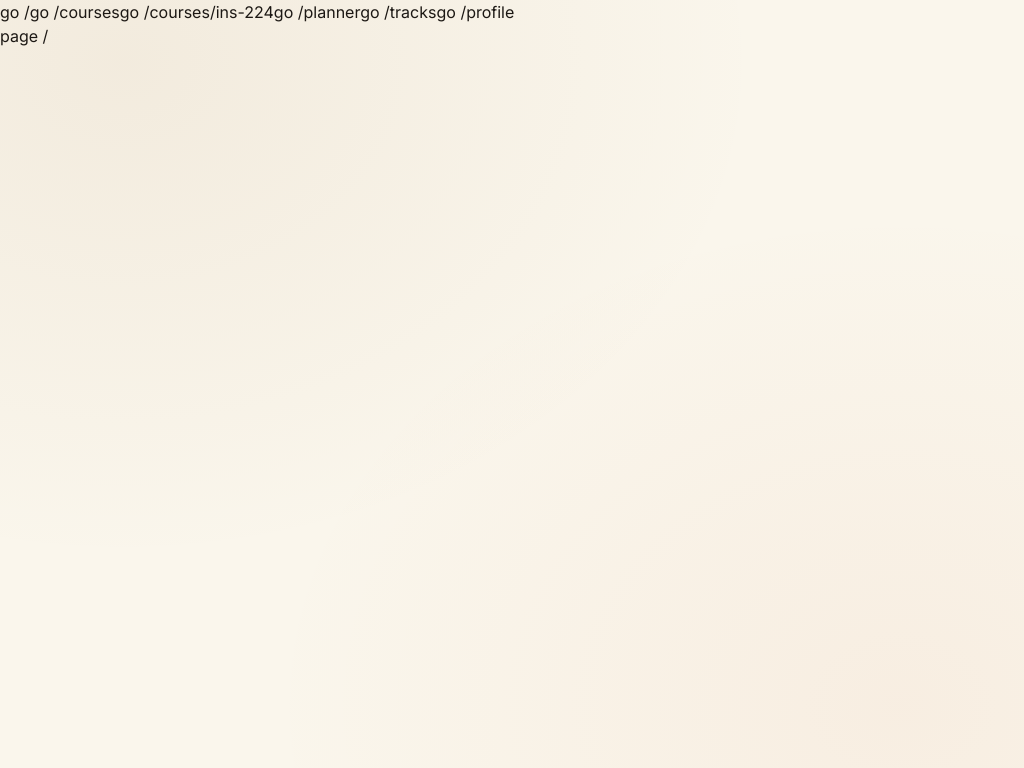
Test: FeedbackPrompt · submitting › disables submit until a rating is picked
Click the link "go /courses" at (42, 12), box x1=30 y1=2 x2=120 y2=22
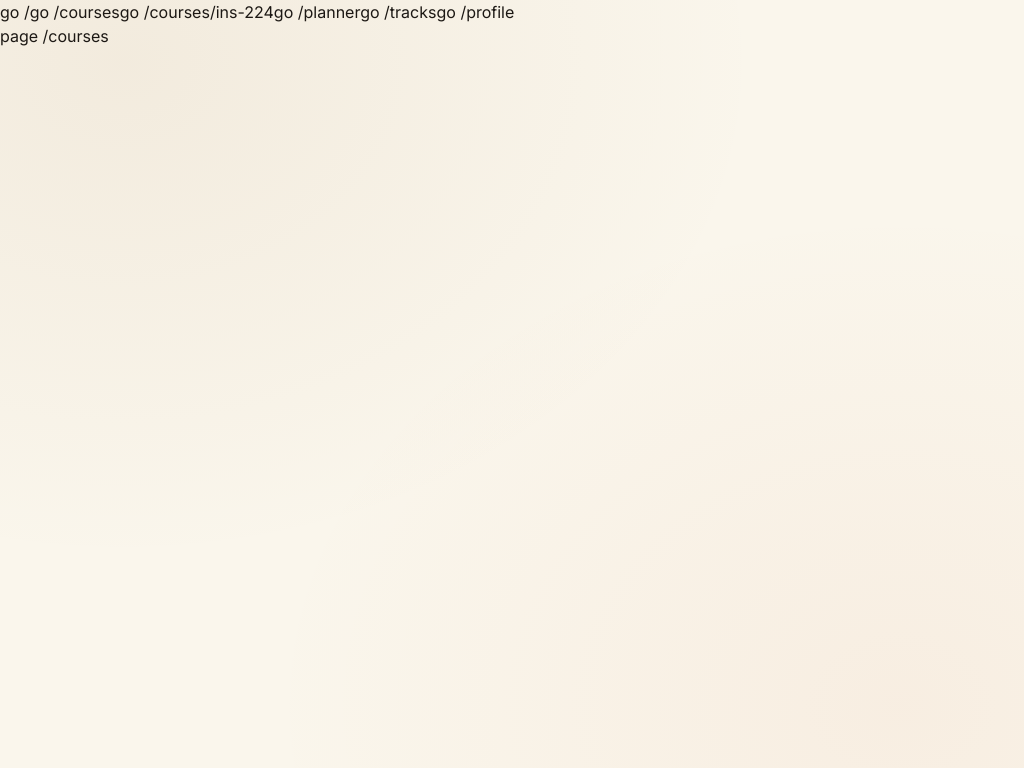
Click the link "go /courses/ins-224" at (132, 12), box x1=120 y1=2 x2=274 y2=22
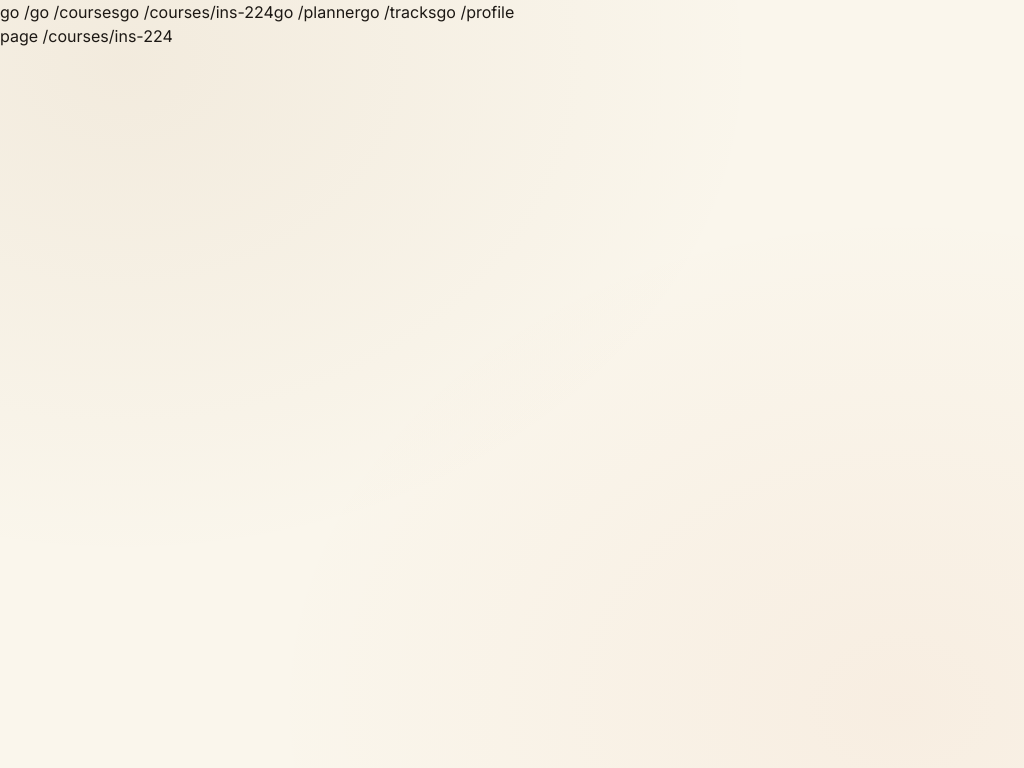
Click the link "go /planner" at (286, 12), box x1=274 y1=2 x2=360 y2=22
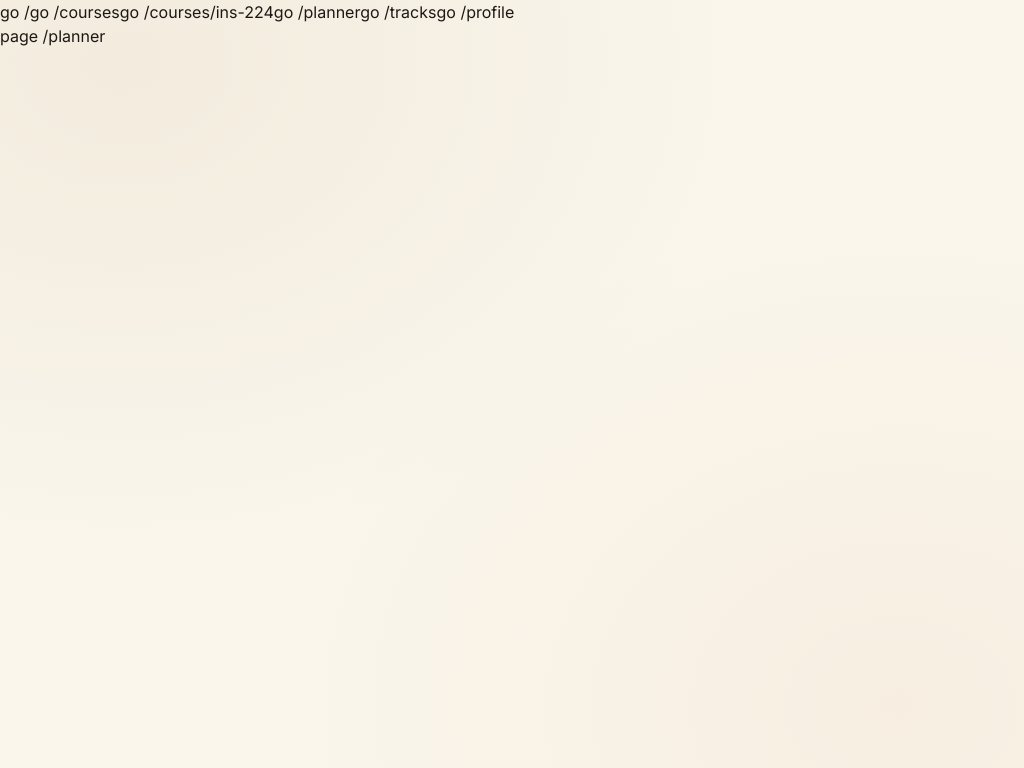
Click the link "go /tracks" at (372, 12), box x1=360 y1=2 x2=436 y2=22
Wait 180000 ms
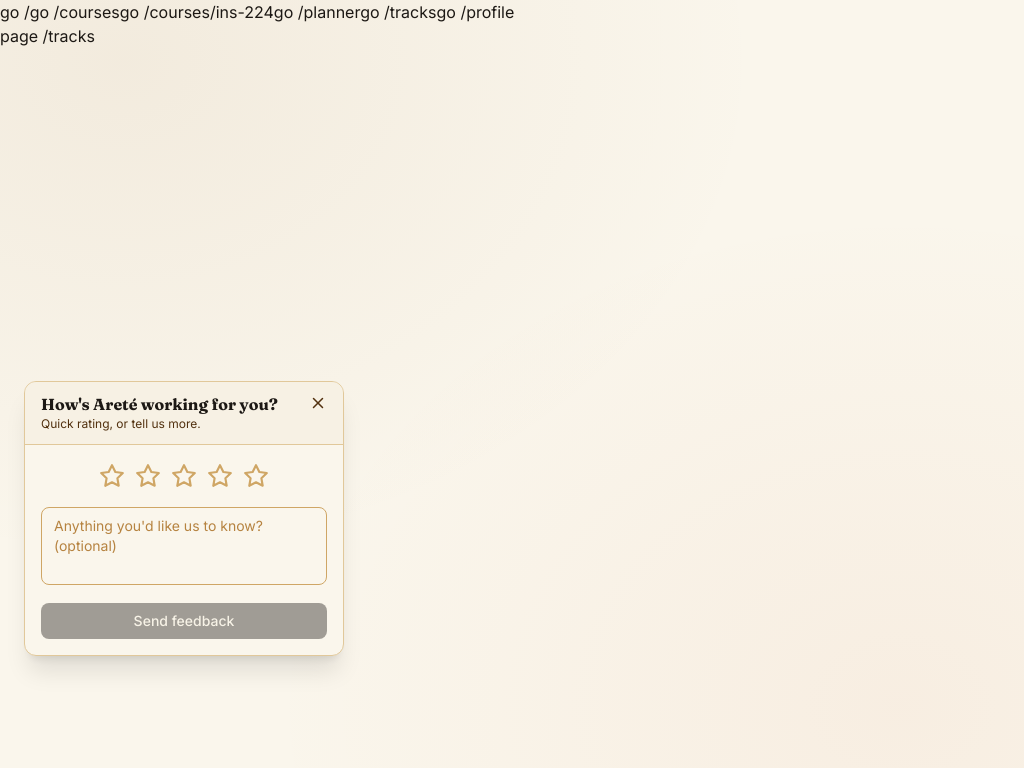
Expected: the button "Send feedback" is disabled, x1=41 y1=603 x2=327 y2=639
Click the radio button named "4 stars" at (220, 476), box x1=205 y1=461 x2=235 y2=491
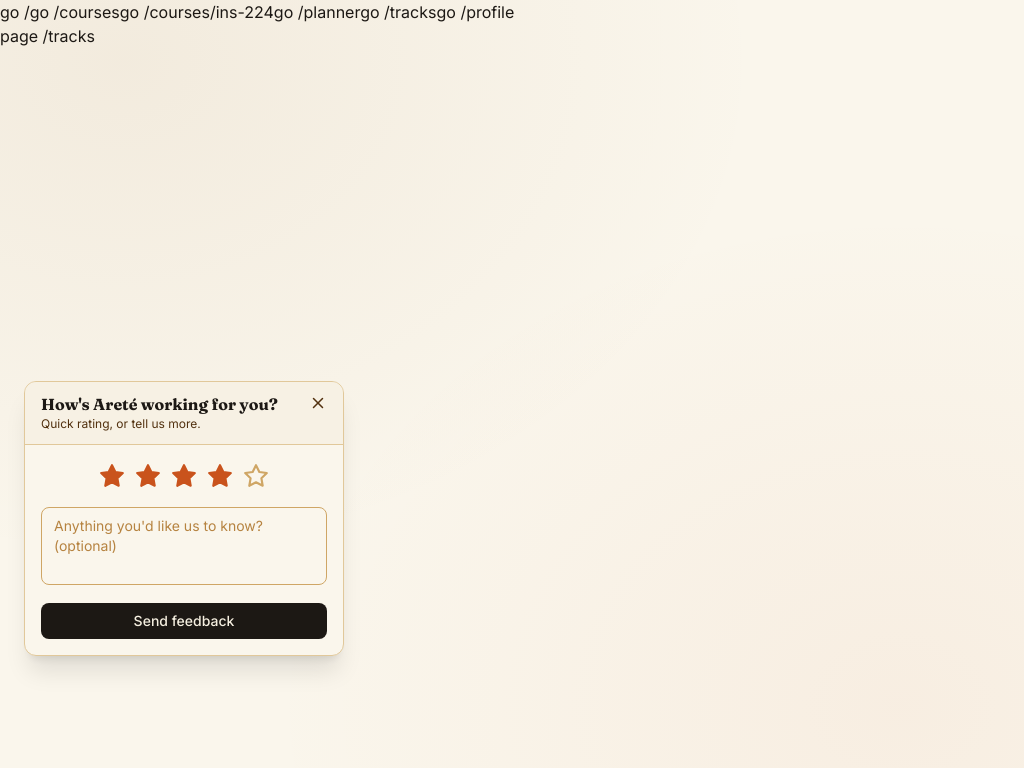
Expected: the button "Send feedback" is enabled, x1=41 y1=603 x2=327 y2=639
